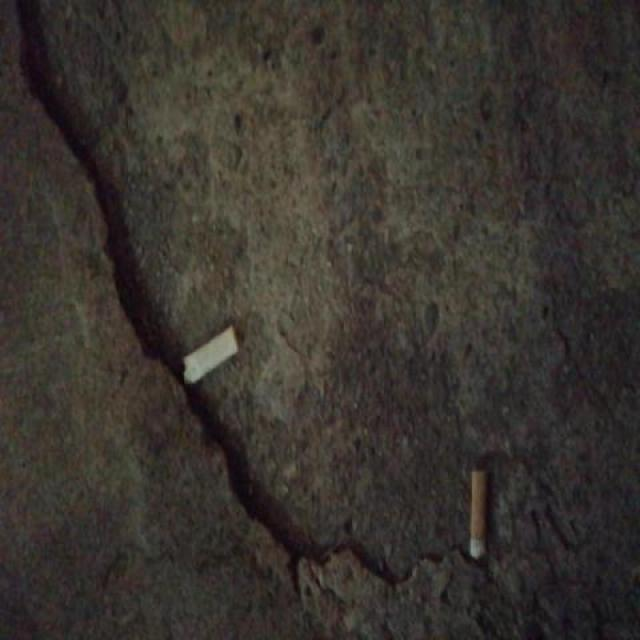non-organic waste: (178, 317, 243, 392), (467, 462, 492, 563)
